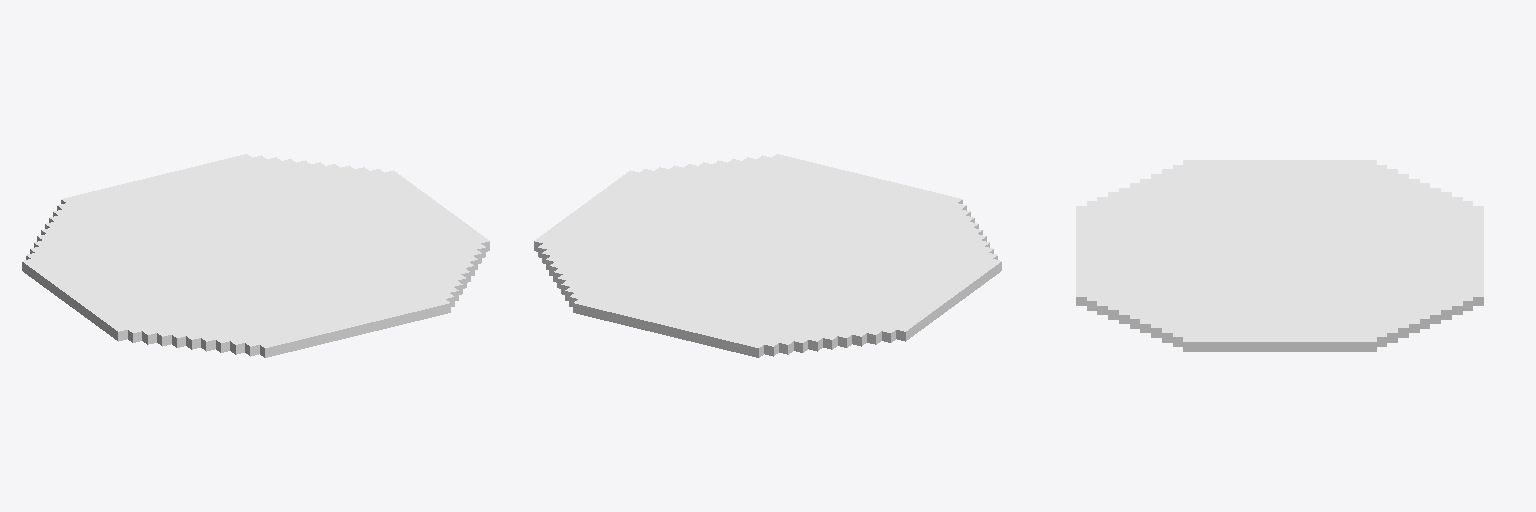
Rendered from ICBM_LATCH.obj.
3 renders of one model, left to right at view 1: azimuth 30°, elevation 25°; view 2: azimuth 150°, elevation 25°; view 3: azimuth 270°, elevation 25°, orthographic.
Parts seen in each view (by area): view 1: object 1; view 2: object 1; view 3: object 1.
Boxes of the visible parts, box(x1,y1,x2,y2) form: object 1: box(22, 154, 489, 357); object 1: box(534, 154, 1001, 357); object 1: box(1076, 160, 1483, 351).
Bounding box in the file's own units: 4 × 0.1 × 3.8.